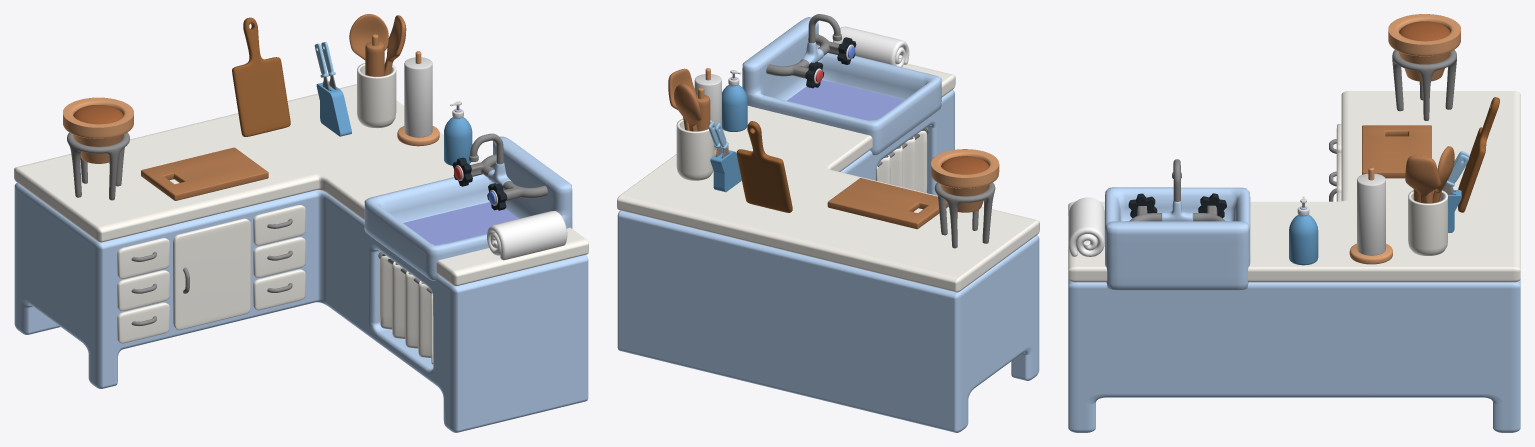
The model's file is Sink2.fbx.
3 renders of one model, left to right at view 1: azimuth 30°, elevation 25°; view 2: azimuth 150°, elevation 25°; view 3: azimuth 270°, elevation 25°, orthographic. The views are drawn at different scales.
Parts seen in each view (by area): view 1: Kitchen Counter, Plant Pot, Utensil Holder, Cutting Board 2, Cutting Board 1, Curtain, Spiral, PaperTowl, Knife Holder, Soap; view 2: Kitchen Counter, Plant Pot, Utensil Holder, Cutting Board 1, Cutting Board 2, Curtain, Spiral, Knife Holder, Soap, PaperTowl, Valve for sink 2.1; view 3: Kitchen Counter, Plant Pot, Utensil Holder, Cutting Board 1, PaperTowl, Spiral, Soap, Cutting Board 2, Knife Holder.
Part boxes in pixels (x1,y1,x2,y2): Kitchen Counter: (14,84,588,432); Plant Pot: (63,97,133,200); Utensil Holder: (349,14,406,128); Cutting Board 2: (232,17,290,136); Cutting Board 1: (141,147,268,200); Curtain: (380,255,433,364); Spiral: (487,211,567,260); PaperTowl: (397,51,439,146); Knife Holder: (314,42,351,136); Soap: (444,101,472,165); Kitchen Counter: (617,14,1039,432); Plant Pot: (931,149,999,248); Utensil Holder: (668,68,714,180); Cutting Board 1: (827,178,948,229); Cutting Board 2: (736,121,792,212); Curtain: (876,131,927,192); Spiral: (833,26,909,66); Knife Holder: (708,121,741,192); Soap: (722,70,747,131); PaperTowl: (694,68,728,154); Valve for sink 2.1: (837,37,856,64); Kitchen Counter: (1068,91,1520,432); Plant Pot: (1388,14,1460,120); Utensil Holder: (1405,146,1454,255); Cutting Board 1: (1362,125,1431,178); PaperTowl: (1349,167,1392,264); Spiral: (1068,197,1104,256); Soap: (1289,196,1318,265); Cutting Board 2: (1458,97,1499,212); Knife Holder: (1442,151,1468,232).
Bounding box in the file's own units: 122 × 85.23 × 129.
